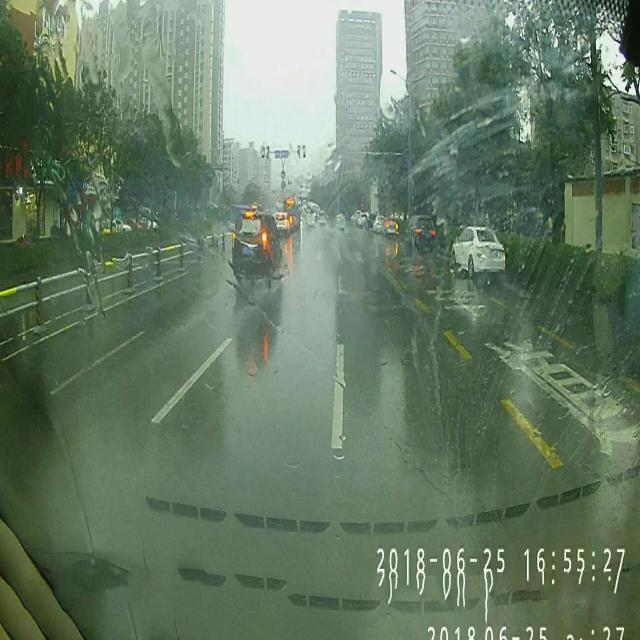car: (230, 200, 282, 285), (444, 215, 506, 284), (403, 200, 438, 258), (384, 216, 400, 238), (334, 209, 347, 233), (372, 210, 386, 232), (306, 207, 314, 235)
